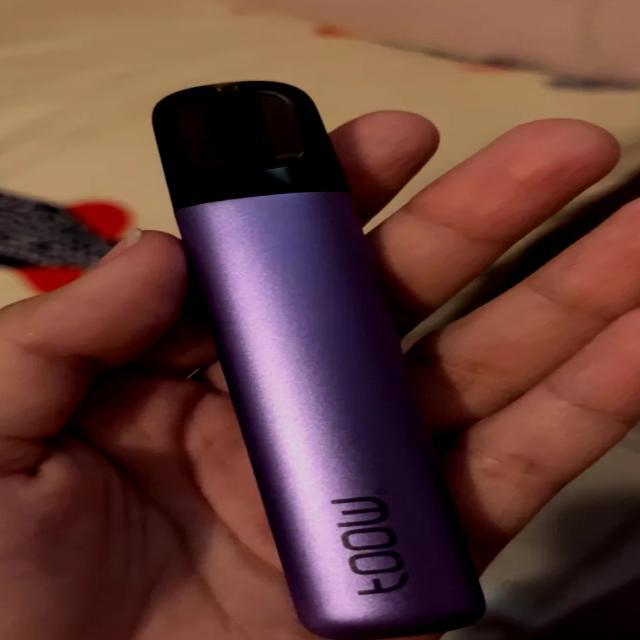Hazard: (150, 80, 488, 634)
